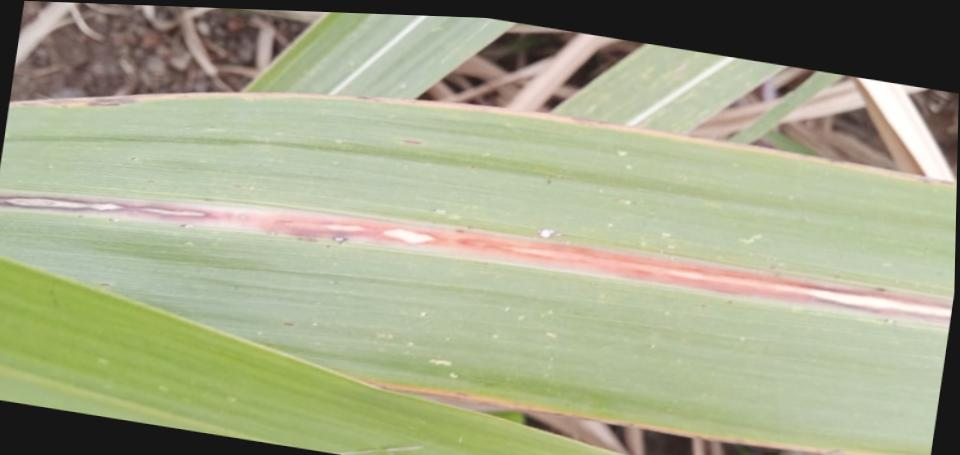RedRot: (457, 238, 952, 320), (235, 213, 450, 246), (0, 194, 235, 222)
Rust: (537, 226, 567, 238), (399, 137, 422, 146), (295, 236, 320, 243), (333, 235, 350, 244), (280, 319, 296, 328), (875, 284, 886, 292), (179, 223, 194, 228), (107, 216, 120, 221), (455, 228, 466, 233), (545, 178, 552, 185), (77, 212, 84, 217)
